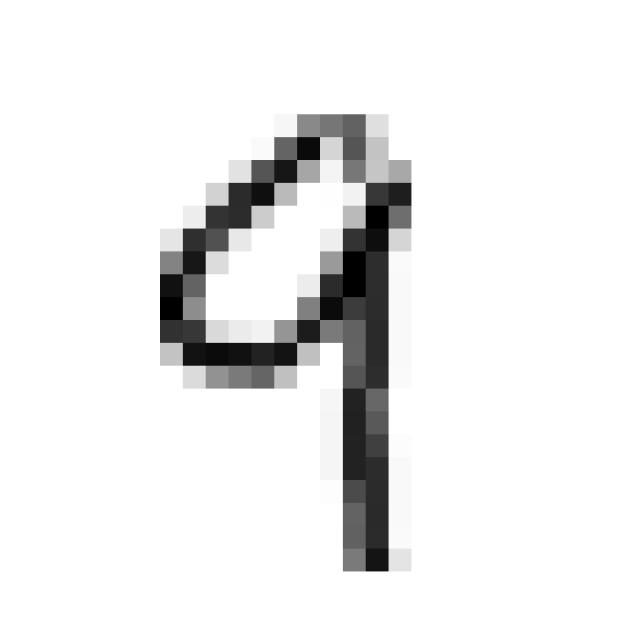9 -nine-: (123, 85, 425, 602)
